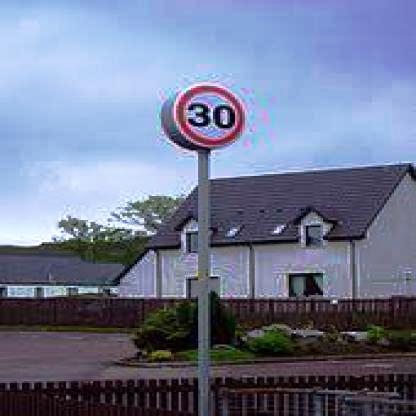Speed Limit -30-: (174, 83, 245, 147)
